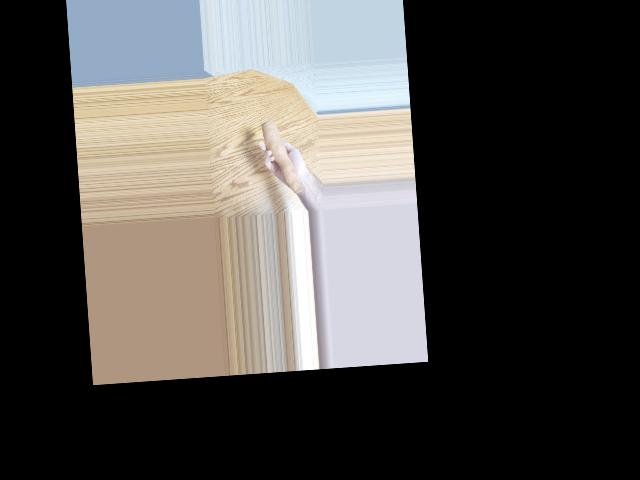sweet_potato: (266, 121, 303, 195)
